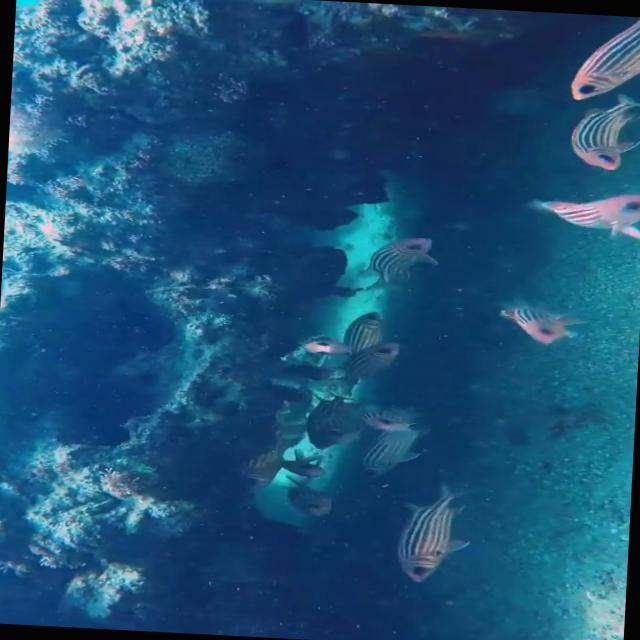Asker Baligi: (392, 486, 476, 584), (338, 417, 438, 486), (569, 88, 640, 178), (356, 232, 446, 294), (496, 303, 586, 346), (339, 341, 408, 397), (274, 480, 350, 526), (300, 397, 358, 442)
